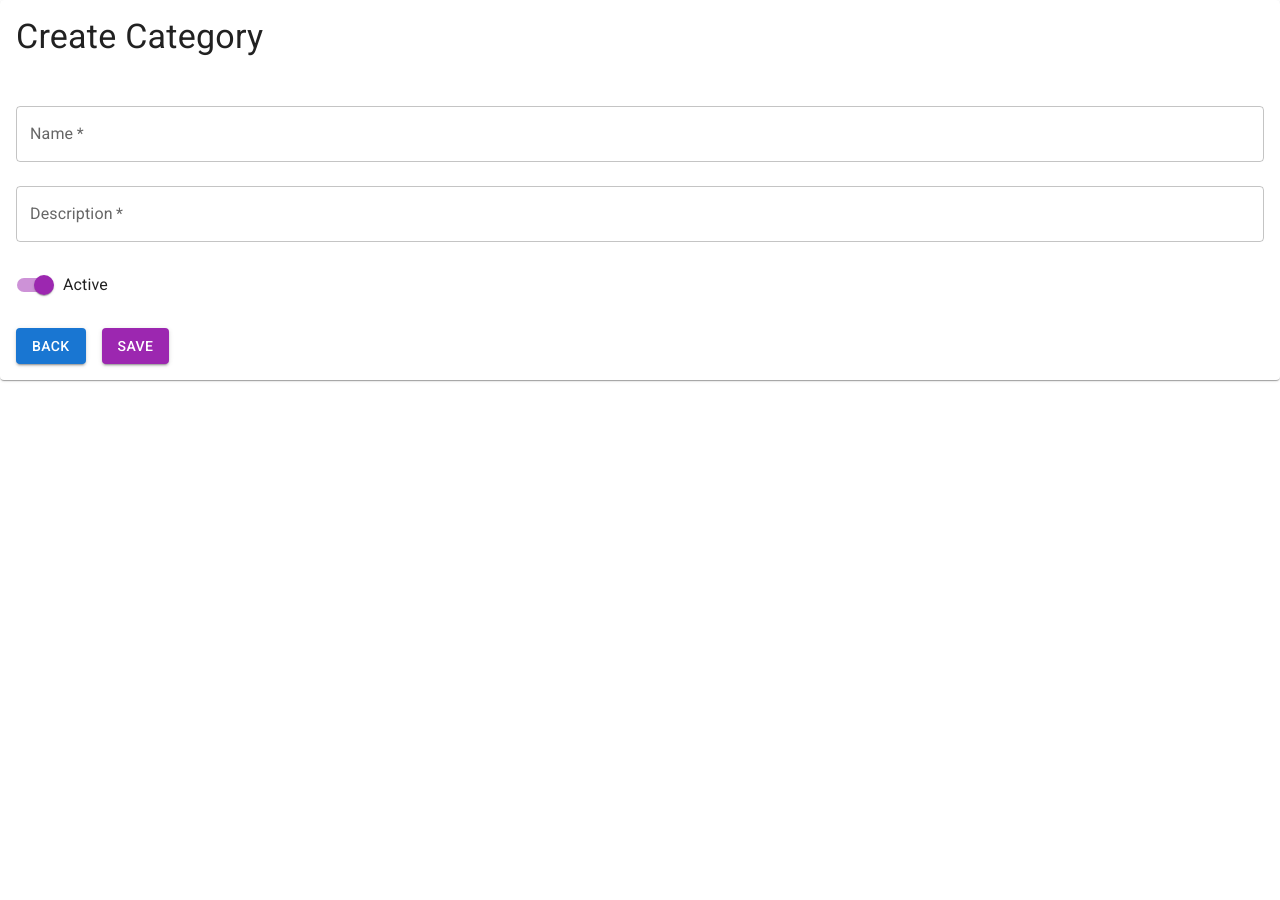
Scenario: CreateCategory › should handle error
Type "Category 1" into the field with test id "name" at point(640, 134), box [16,106,1264,162]
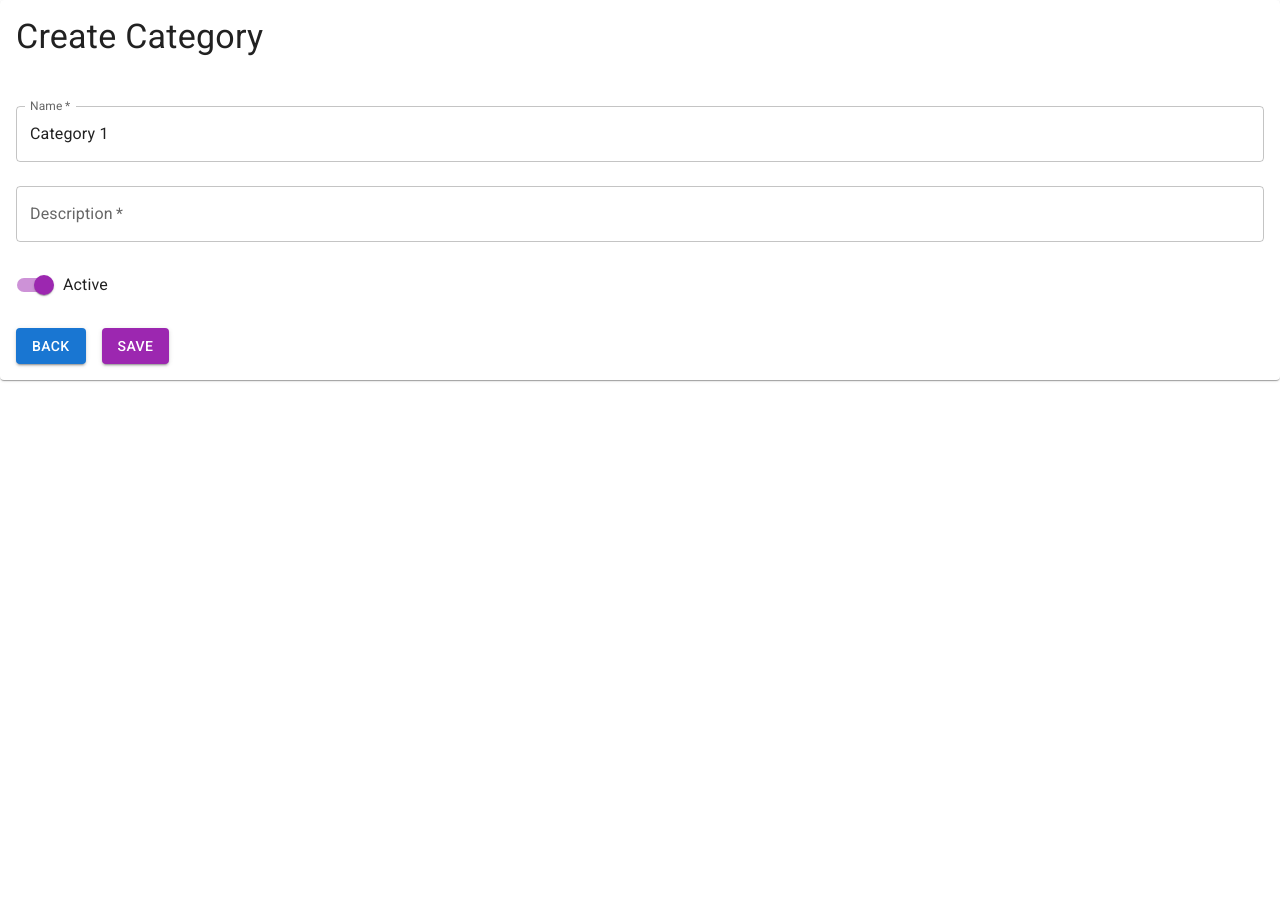
Type "Description 1" into the field with test id "description" at point(640, 214), box [16,186,1264,242]
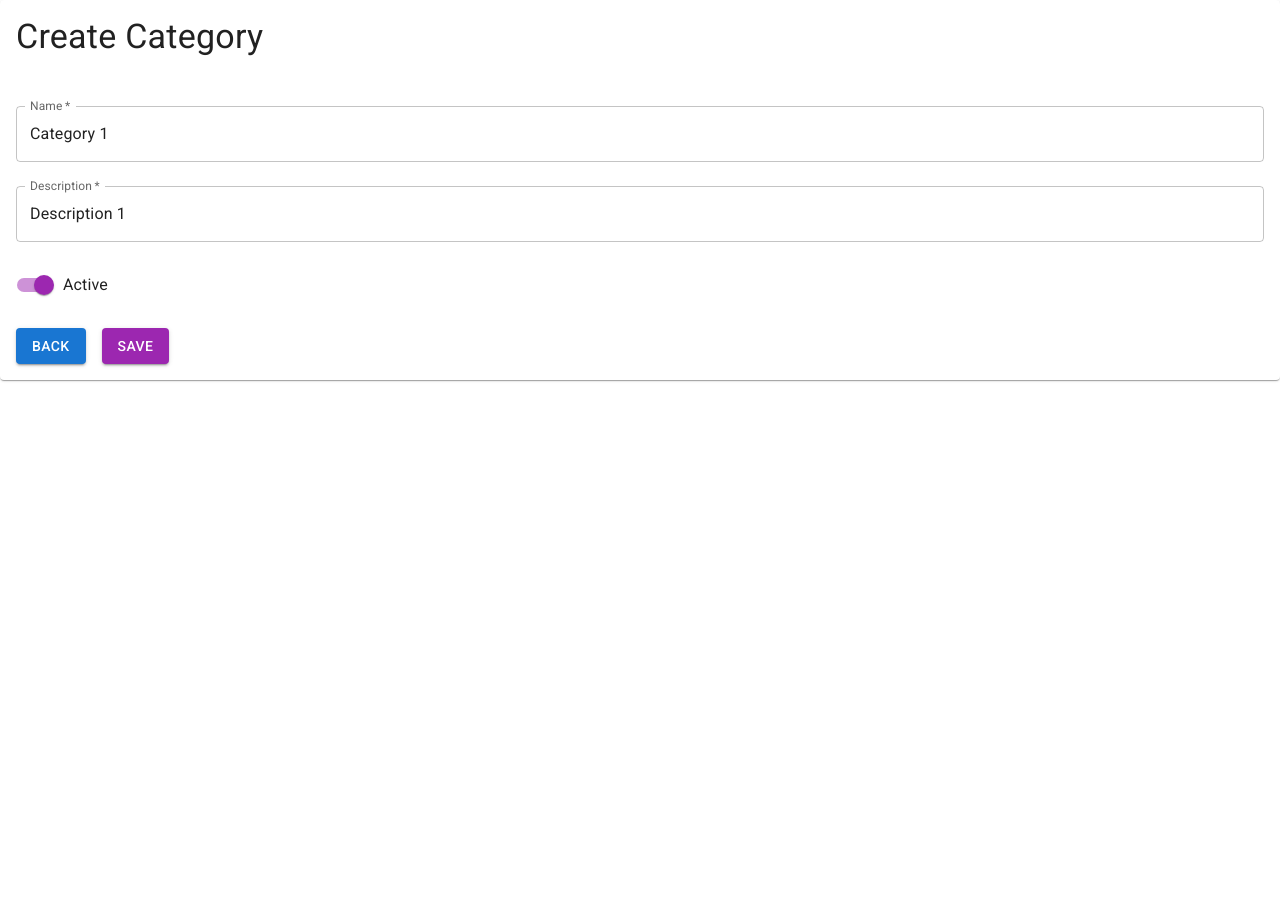
Click the element with test id "is_active" at point(44, 285), box [34,275,54,295]
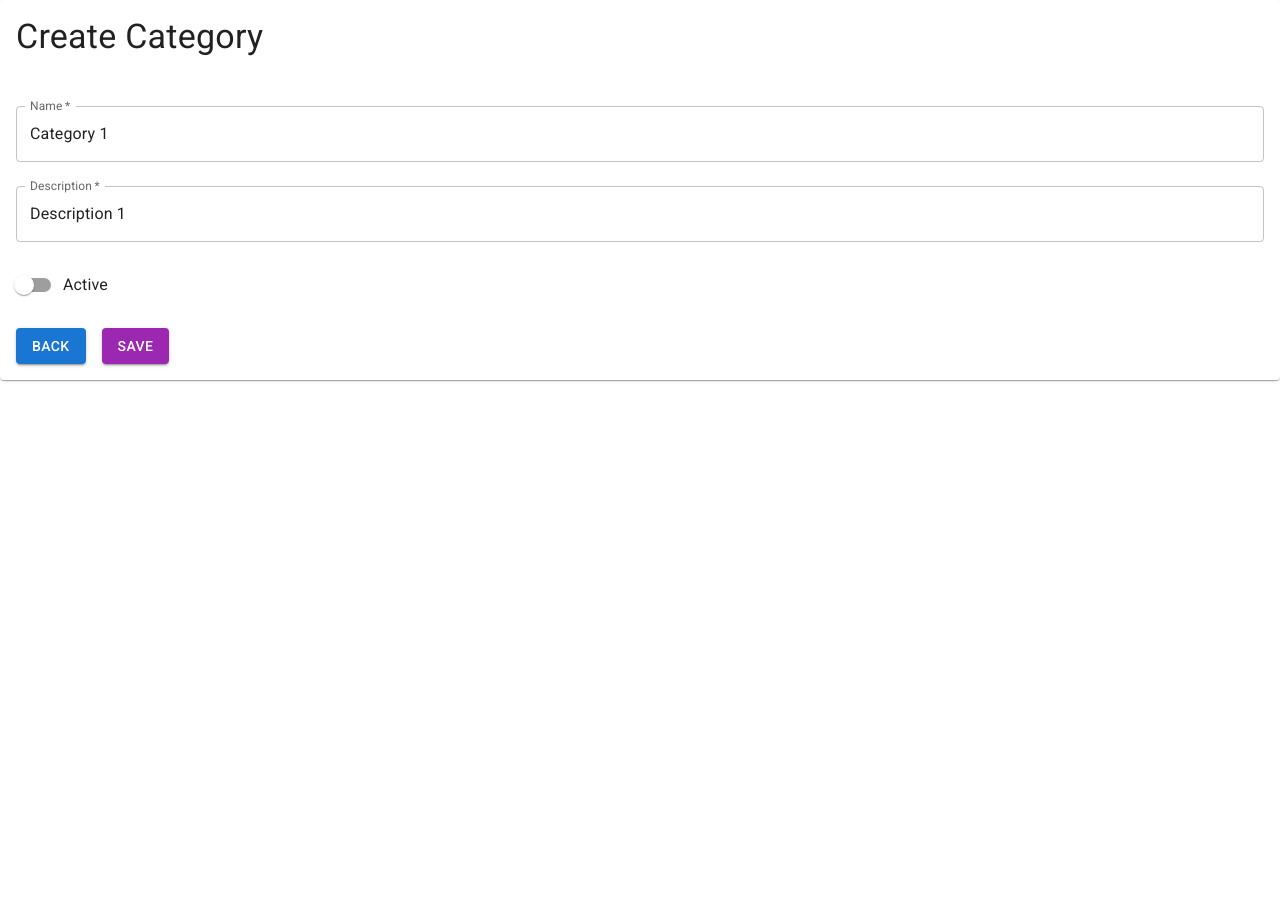
Click the button "Save" at point(136, 346), box [102,328,169,364]
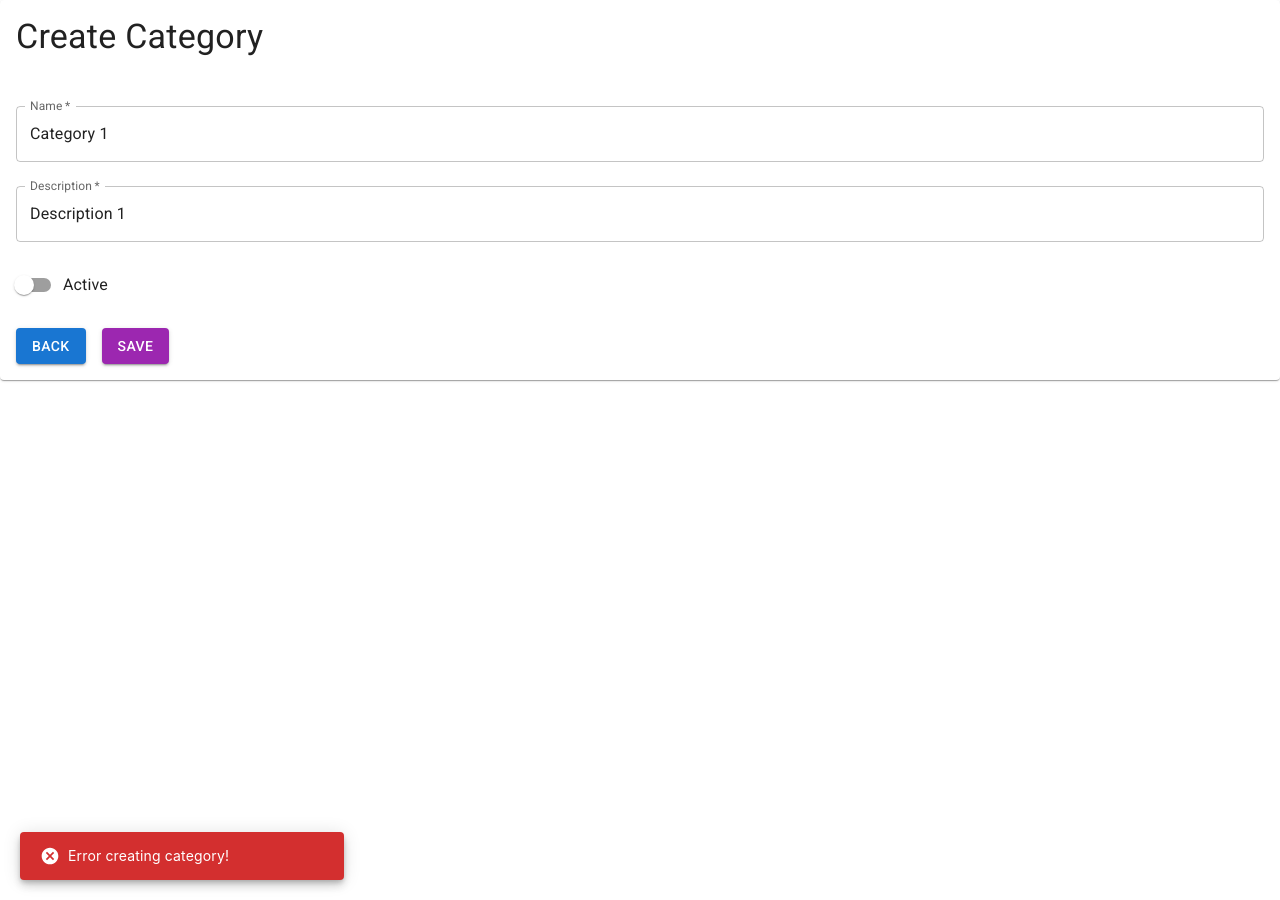
Now the text "Error creating category!" is shown, box [40,846,229,866]
